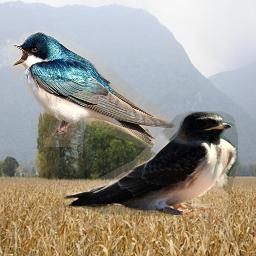Swallow: (10, 30, 177, 147), (60, 111, 238, 216)
